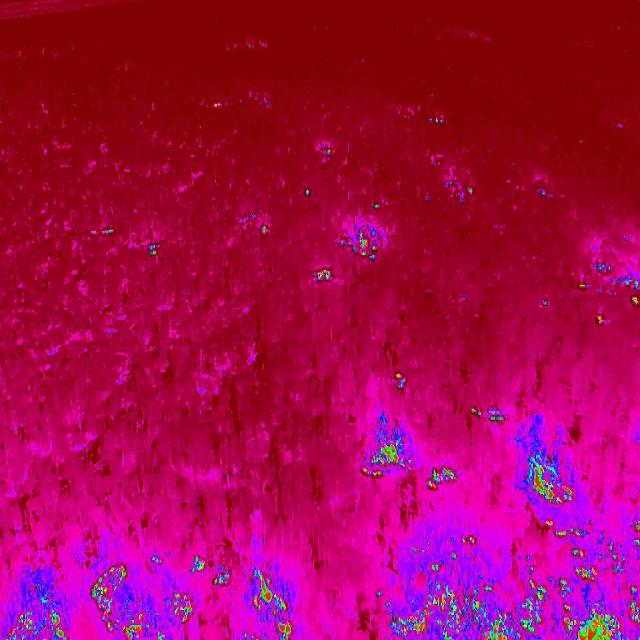fire: (380, 514, 640, 640), (0, 543, 293, 639), (357, 400, 458, 500), (311, 222, 390, 286), (577, 258, 640, 328), (514, 448, 578, 514), (89, 223, 118, 239), (395, 367, 411, 395), (142, 238, 158, 260)
